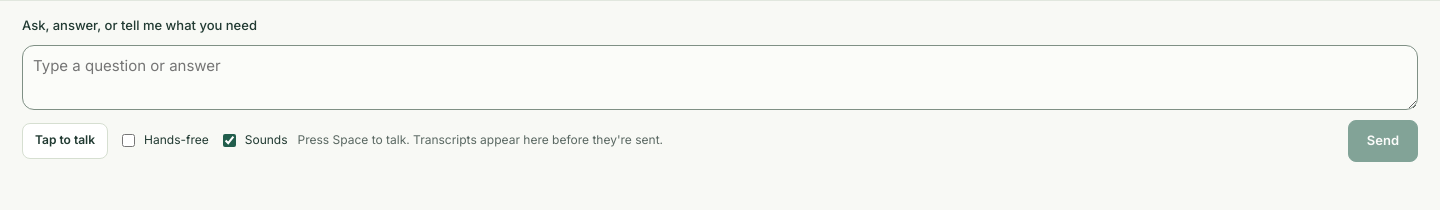
Test: VoiceComposer (API mode) › shows a voice error and returns to typing
Click the button "Tap to talk".
click(65, 141)  # box [22,123,108,159]
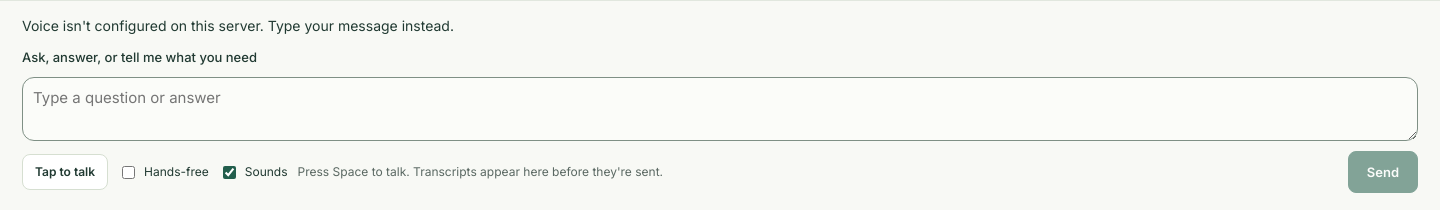
Check: the button "Tap to talk" is enabled, box [22,154,108,190]
Check: the message shows "Type your message instead.", box [22,17,454,34]
